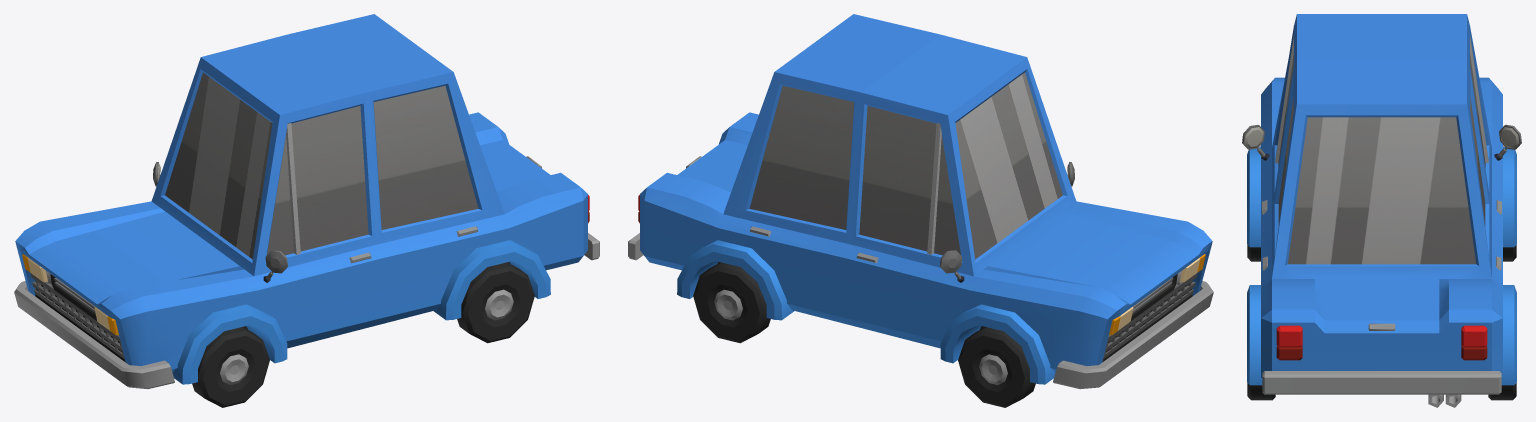
File: Car_4_1_A.gltf
3 views of the same model, side by side, from view 1: azimuth 30°, elevation 25°; view 2: azimuth 150°, elevation 25°; view 3: azimuth 270°, elevation 25° (orthographic). The views are drawn at different scales.
Parts seen in each view (by area): view 1: Car_4_1_A, RL, FL; view 2: Car_4_1_A, RR, FR; view 3: Car_4_1_A, RL, RR.
Boxes of the visible parts, x1,y1,x2,y2 form: Car_4_1_A: (14, 14, 599, 389); RL: (457, 262, 534, 343); FL: (192, 327, 269, 407); Car_4_1_A: (628, 14, 1213, 389); RR: (693, 262, 770, 343); FR: (958, 327, 1035, 407); Car_4_1_A: (1242, 14, 1521, 407); RL: (1247, 383, 1275, 400); RR: (1488, 383, 1516, 400).
Size of the model in its own units: 3.53 by 1.81 by 1.65.
Materials: 4 (4 with a texture image).
